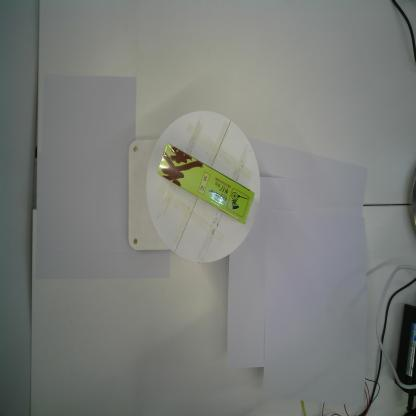Instant Drink: (156, 142, 255, 224)
